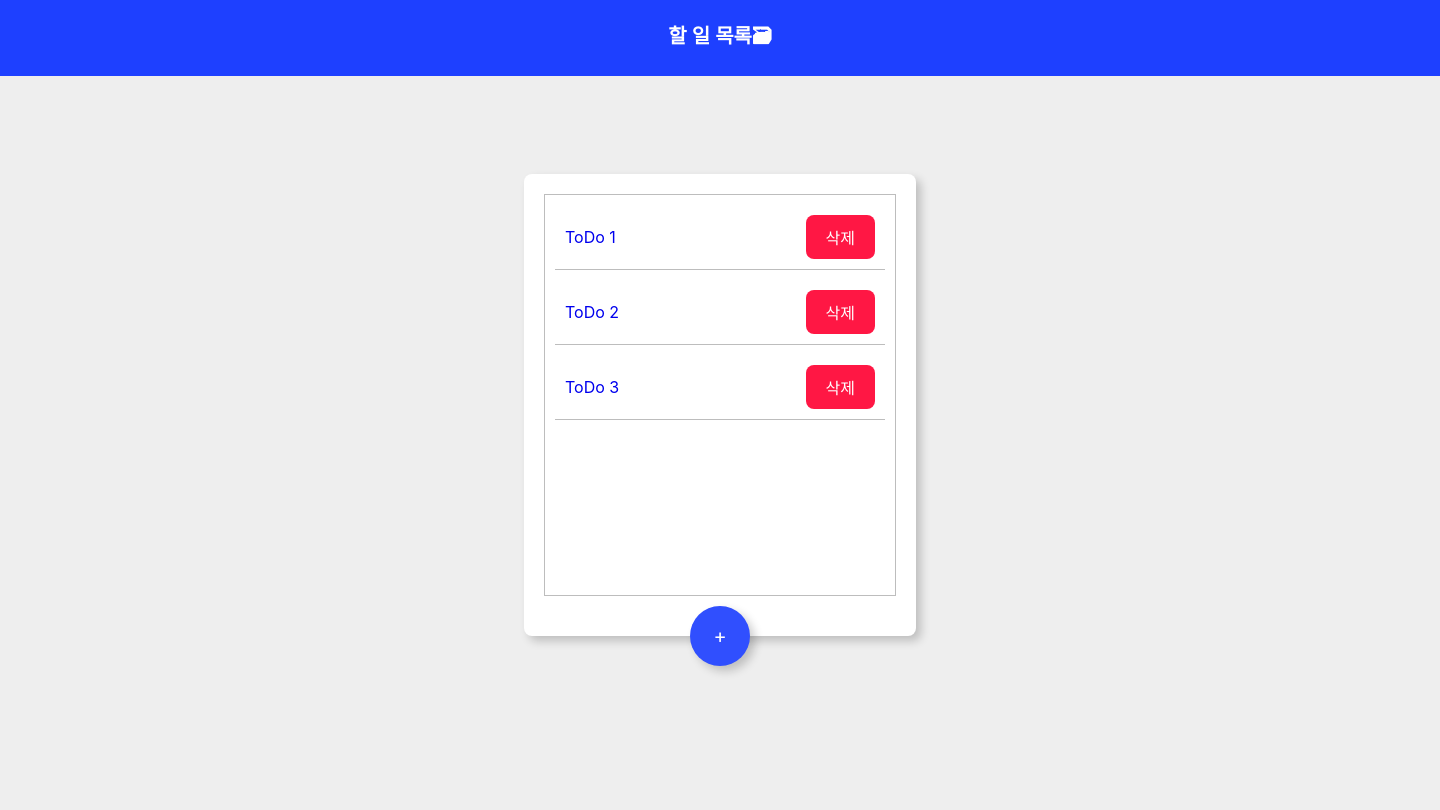
Scenario: <App /> › deletes toDo item
Expected: the link "ToDo 2" is shown, [565,302,619,322]
Click the element showing "삭제" in the row of "ToDo 2".
click(840, 312)  # box [806,290,875,334]
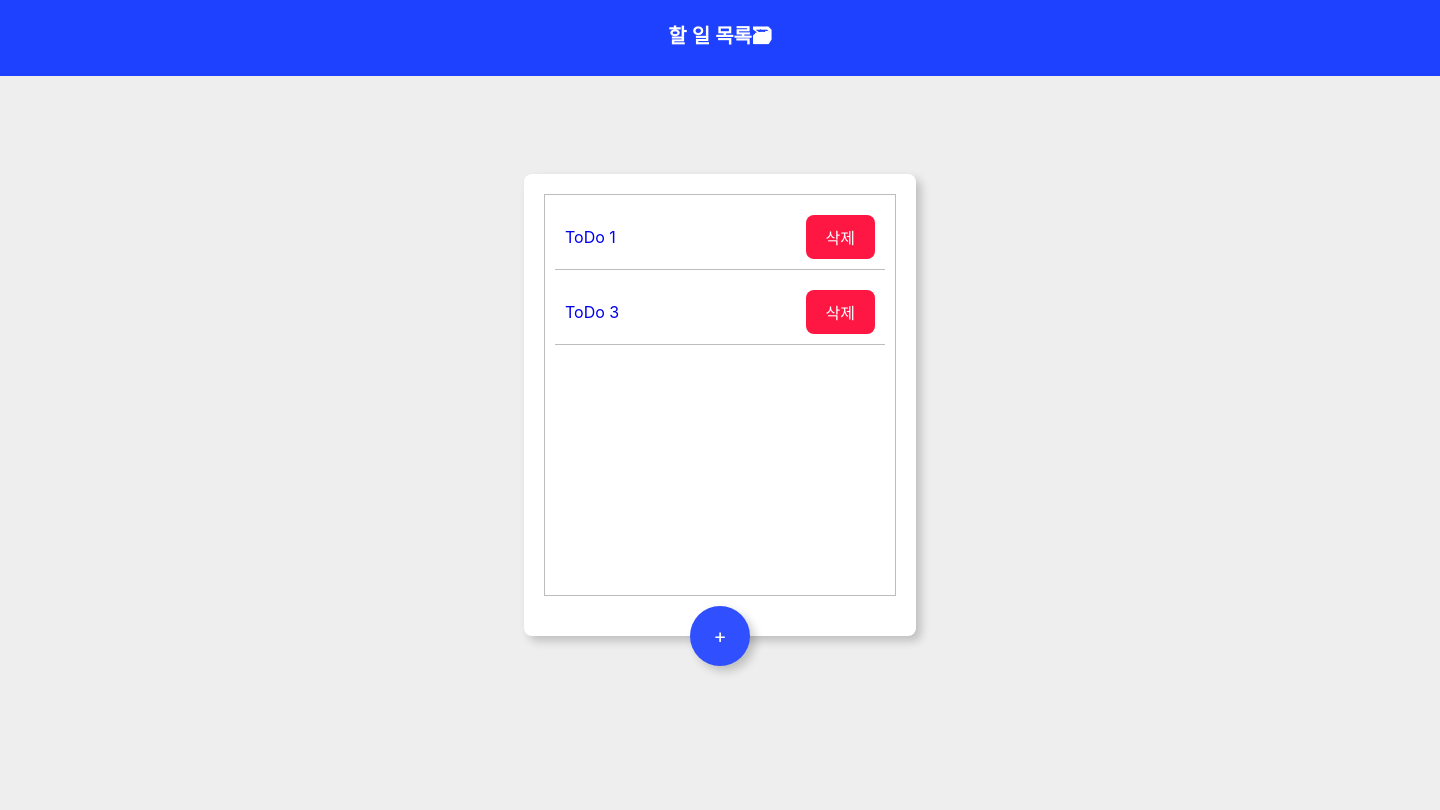
Result: the link "ToDo 2" is gone
Result: the link "ToDo 2" no longer shows "ToDo 2"
